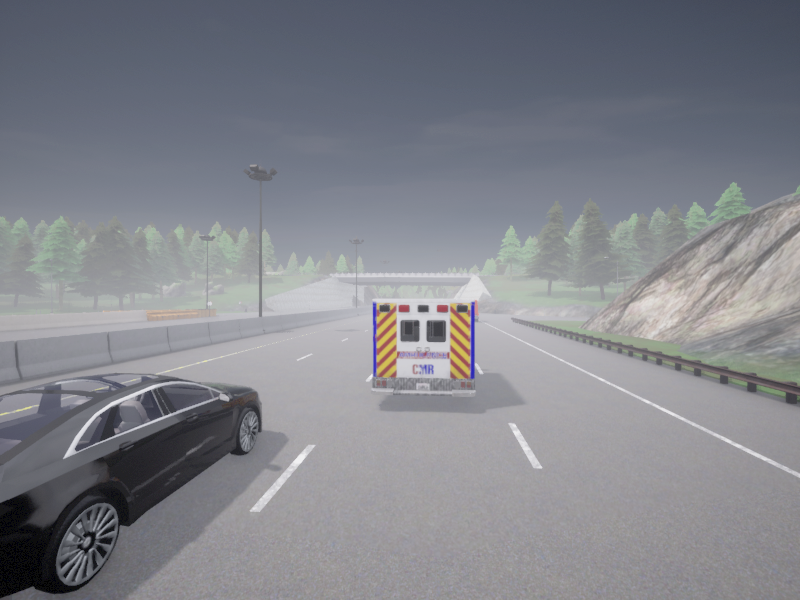vehicle: (0, 373, 261, 598), (371, 299, 475, 396), (475, 300, 478, 321)
